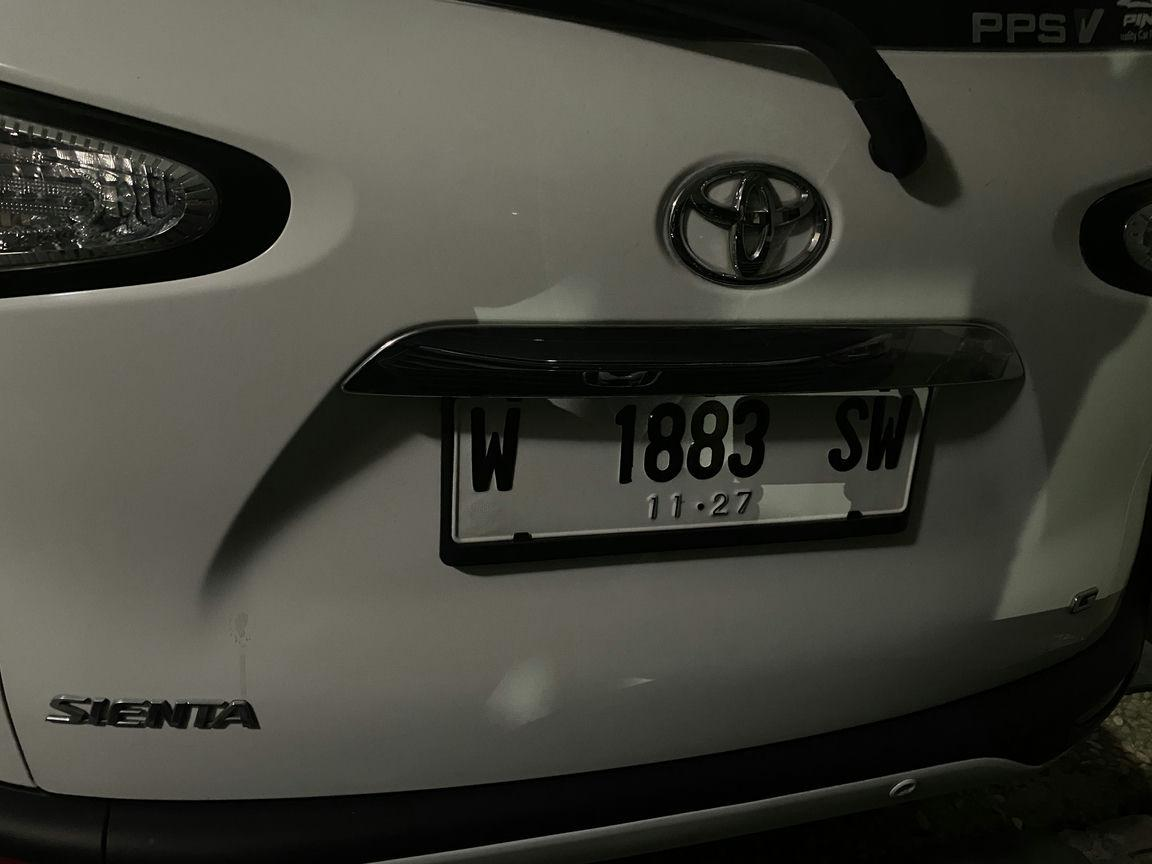plat: (443, 387, 927, 562)
